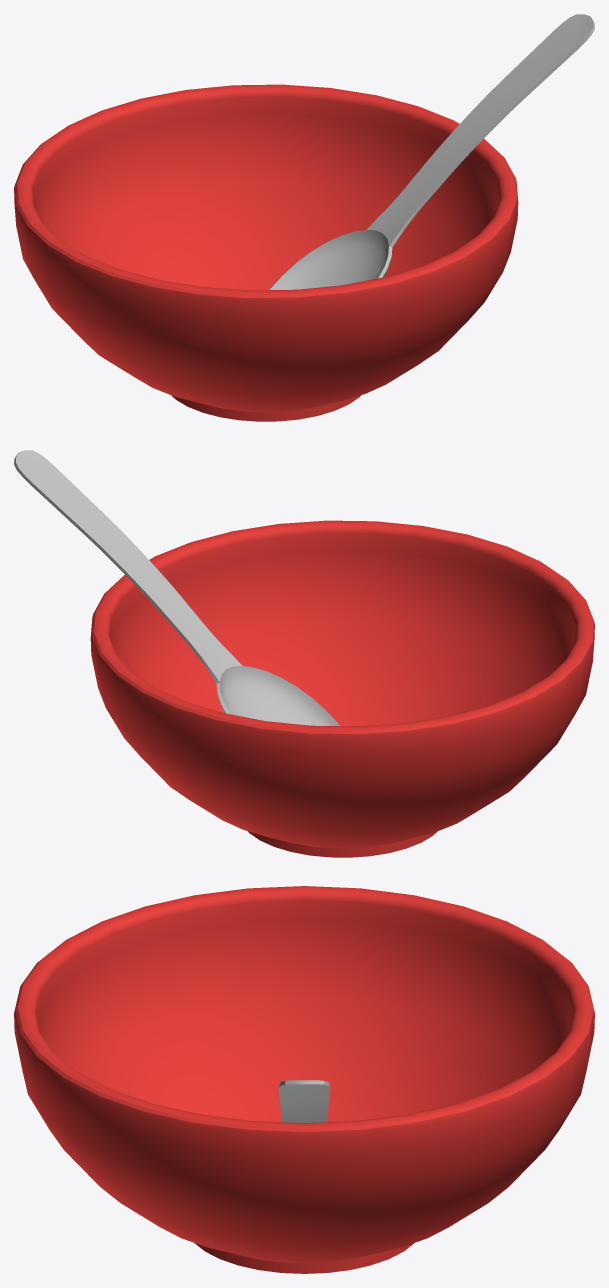
The model's file is bowl_with_spoon.gltf.
The picture shows the model from 3 angles, top to bottom: view 1: azimuth 30°, elevation 25°; view 2: azimuth 150°, elevation 25°; view 3: azimuth 270°, elevation 25°; orthographic projection. The views are drawn at different scales.
Parts seen in each view (by area): view 1: Sphere.490, Cube.408; view 2: Sphere.490, Cube.408; view 3: Sphere.490, Cube.408.
Part boxes in pixels (<box>): Sphere.490: <box>14,84,518,421</box>; Cube.408: <box>268,14,594,290</box>; Sphere.490: <box>90,520,594,857</box>; Cube.408: <box>14,450,340,726</box>; Sphere.490: <box>14,886,594,1273</box>; Cube.408: <box>278,1080,330,1122</box>.
Size of the model in its own units: 2.31 by 1.15 by 1.86.
1 material, 1 textured.
